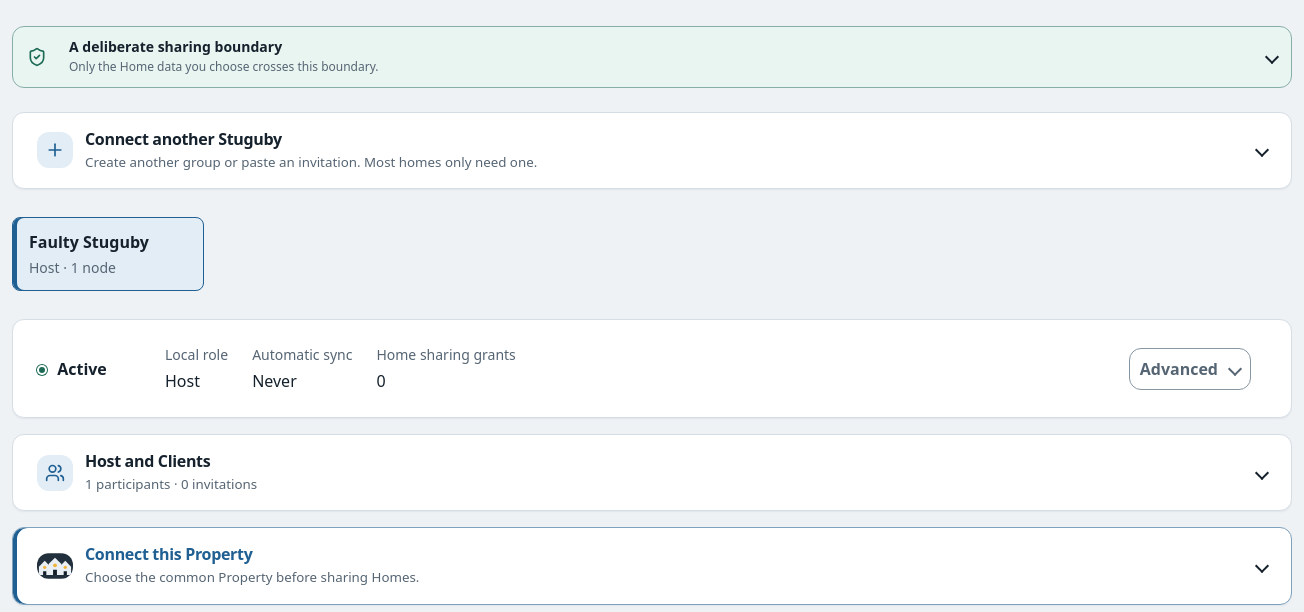
Test case: StugubyPage › deletes a closed Stuguby from Advanced after explicit confirmation
Expected: the text "Automatic sync" is shown, top-left (252, 345), bottom-right (352, 364)
Click the heading "Advanced" at (1190, 369), box top-left (1129, 348), bottom-right (1251, 390)
(page scrolled)
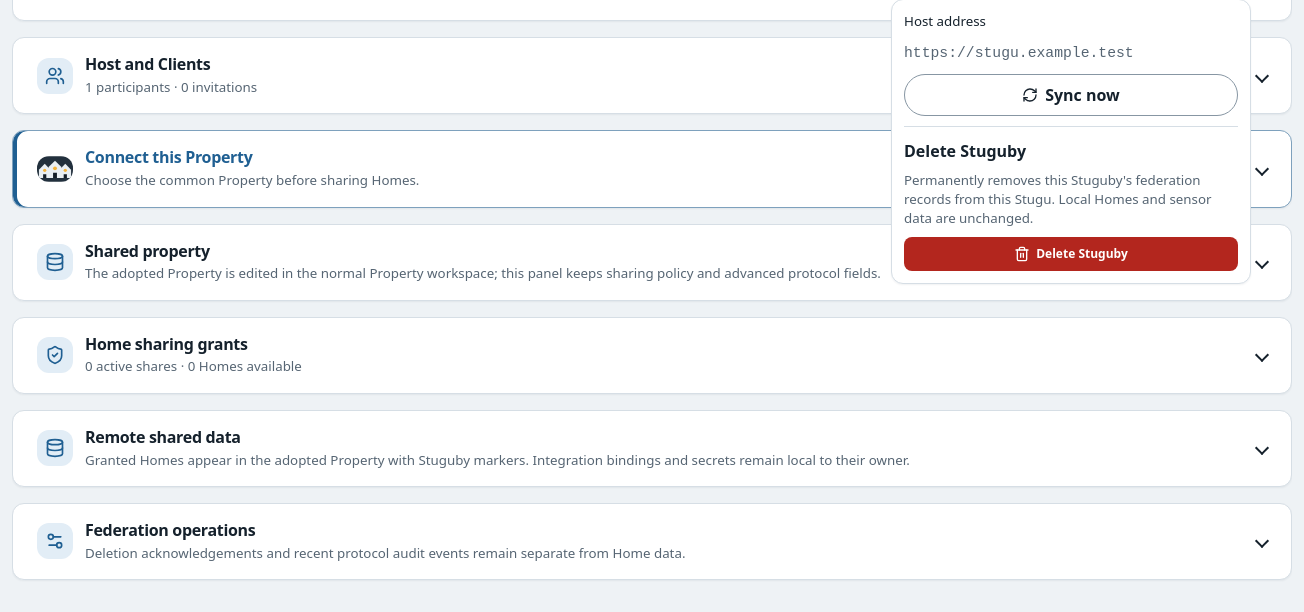
Click the button "Delete Stuguby" at (1071, 254), box top-left (904, 237), bottom-right (1238, 271)
(page scrolled)
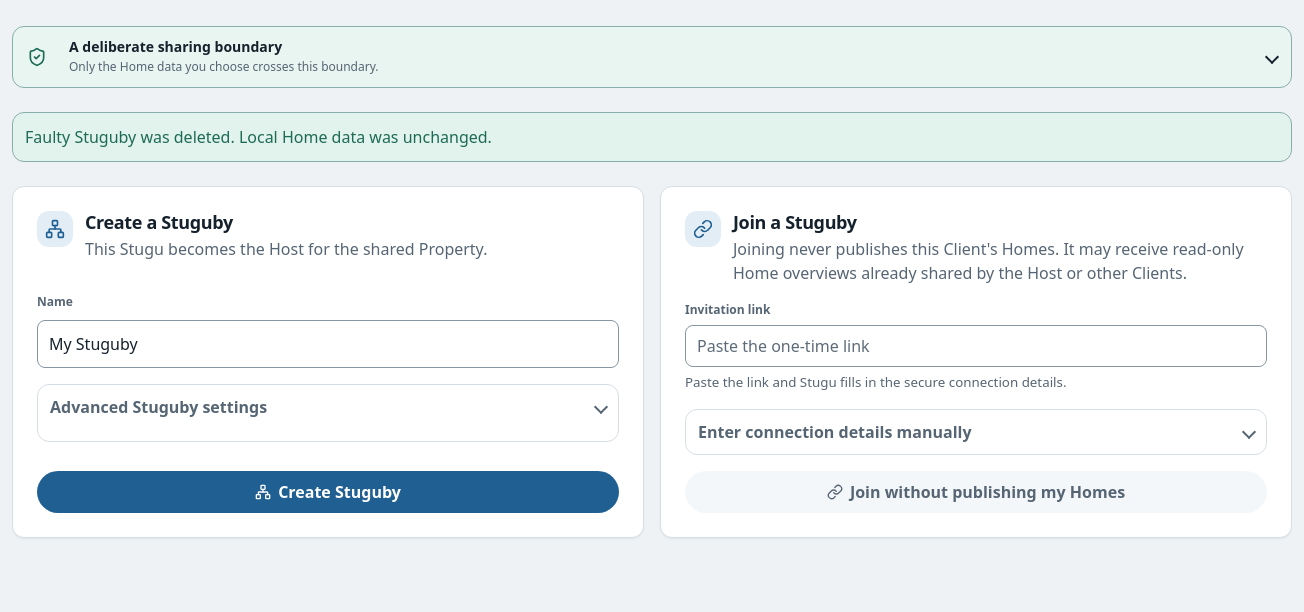
Expected: the heading "Create a Stuguby" is shown, top-left (85, 210), bottom-right (233, 234)
Expected: the text "Faulty Stuguby was deleted. Local Home data was unchanged." is shown, top-left (12, 112), bottom-right (1292, 162)
